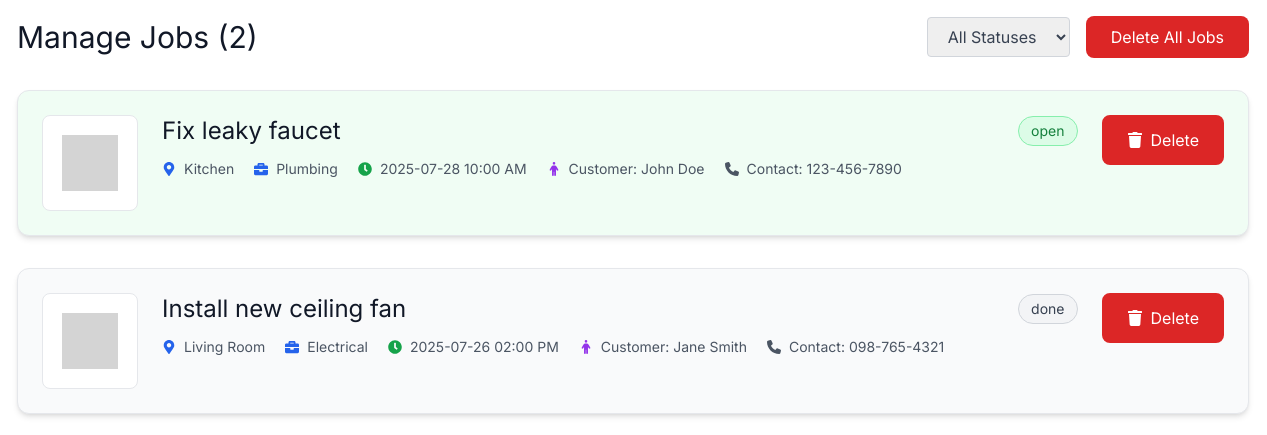
Scenario: AdminJobManagement › filters jobs based on status selection
The image size is (1267, 435).
Expected: the heading "Fix leaky faucet" is shown, 162,115 -> 340,147
Expected: the heading "Install new ceiling fan" is shown, 162,293 -> 406,325
Select "Open" in the dropdown: (998, 37) 927,17 -> 1070,57
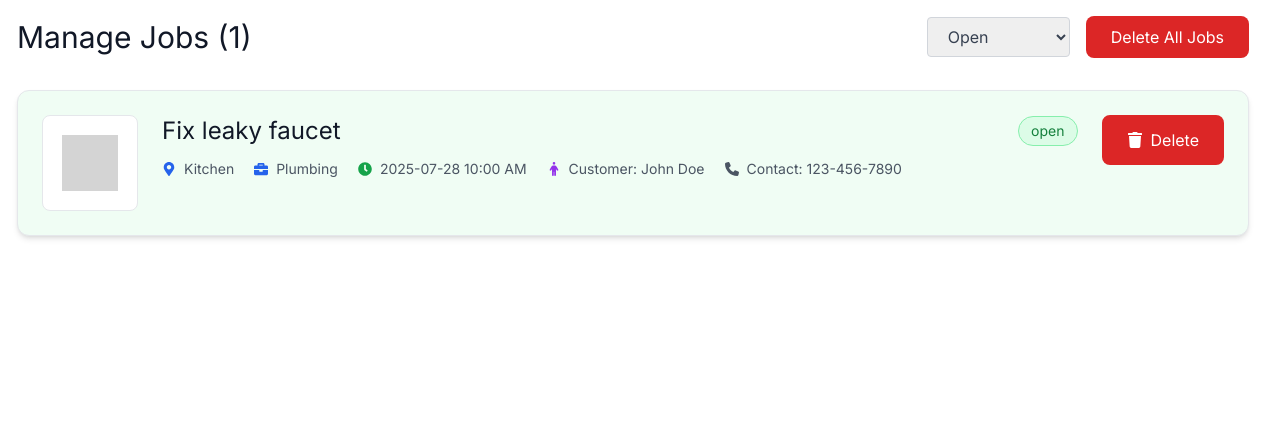
Expected: the heading "Fix leaky faucet" is shown, 162,115 -> 340,147
Result: the heading "Manage Jobs (1)" is shown at 17,19 -> 252,55
Result: the heading "Install new ceiling fan" is gone
